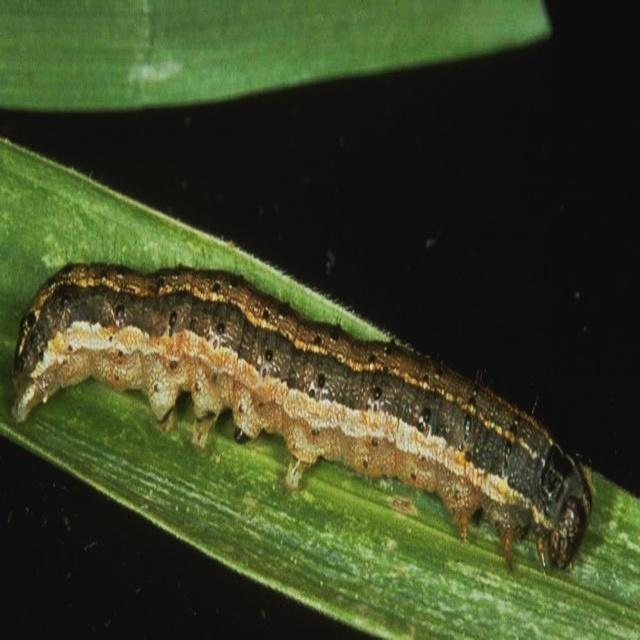gusano_cogollero: (0, 254, 598, 579)
